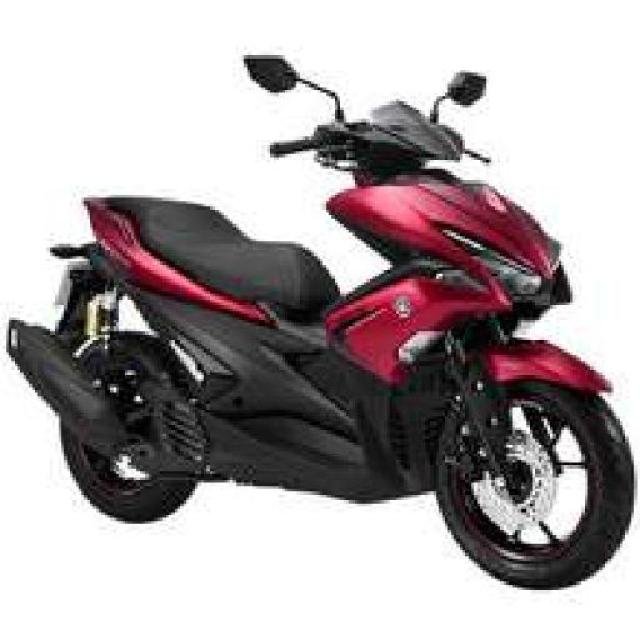All: (2, 97, 640, 595)
Head: (266, 99, 472, 171)
Tail: (69, 186, 143, 262)
